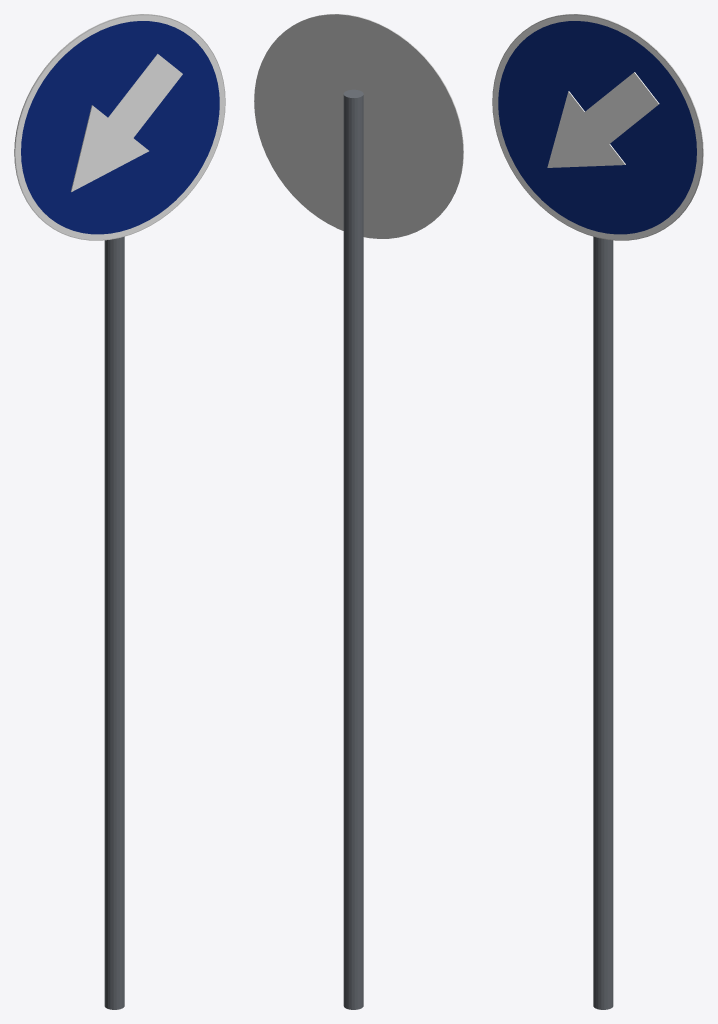
The model's file is direction_sign.obj.
The picture shows the model from 3 angles, left to right: view 1: azimuth 30°, elevation 25°; view 2: azimuth 150°, elevation 25°; view 3: azimuth 330°, elevation 25°; orthographic projection.
Parts seen in each view (by area): view 1: disco_azul, poste, flecha, borde_blanco, placa; view 2: placa, poste; view 3: disco_azul, poste, flecha, borde_blanco, placa.
Part boxes in pixels (x1,y1,x2,y2): disco_azul: (21, 21, 219, 234); poste: (104, 236, 124, 1009); flecha: (71, 54, 182, 191); borde_blanco: (15, 15, 224, 239); placa: (14, 14, 225, 240); placa: (254, 14, 463, 238); poste: (343, 89, 363, 1009); disco_azul: (498, 21, 696, 234); poste: (593, 236, 613, 1009); flecha: (547, 72, 659, 167); borde_blanco: (493, 15, 702, 239); placa: (492, 14, 703, 240).
Bounding box in the file's own units: 0.6 × 2.7 × 0.0567.
